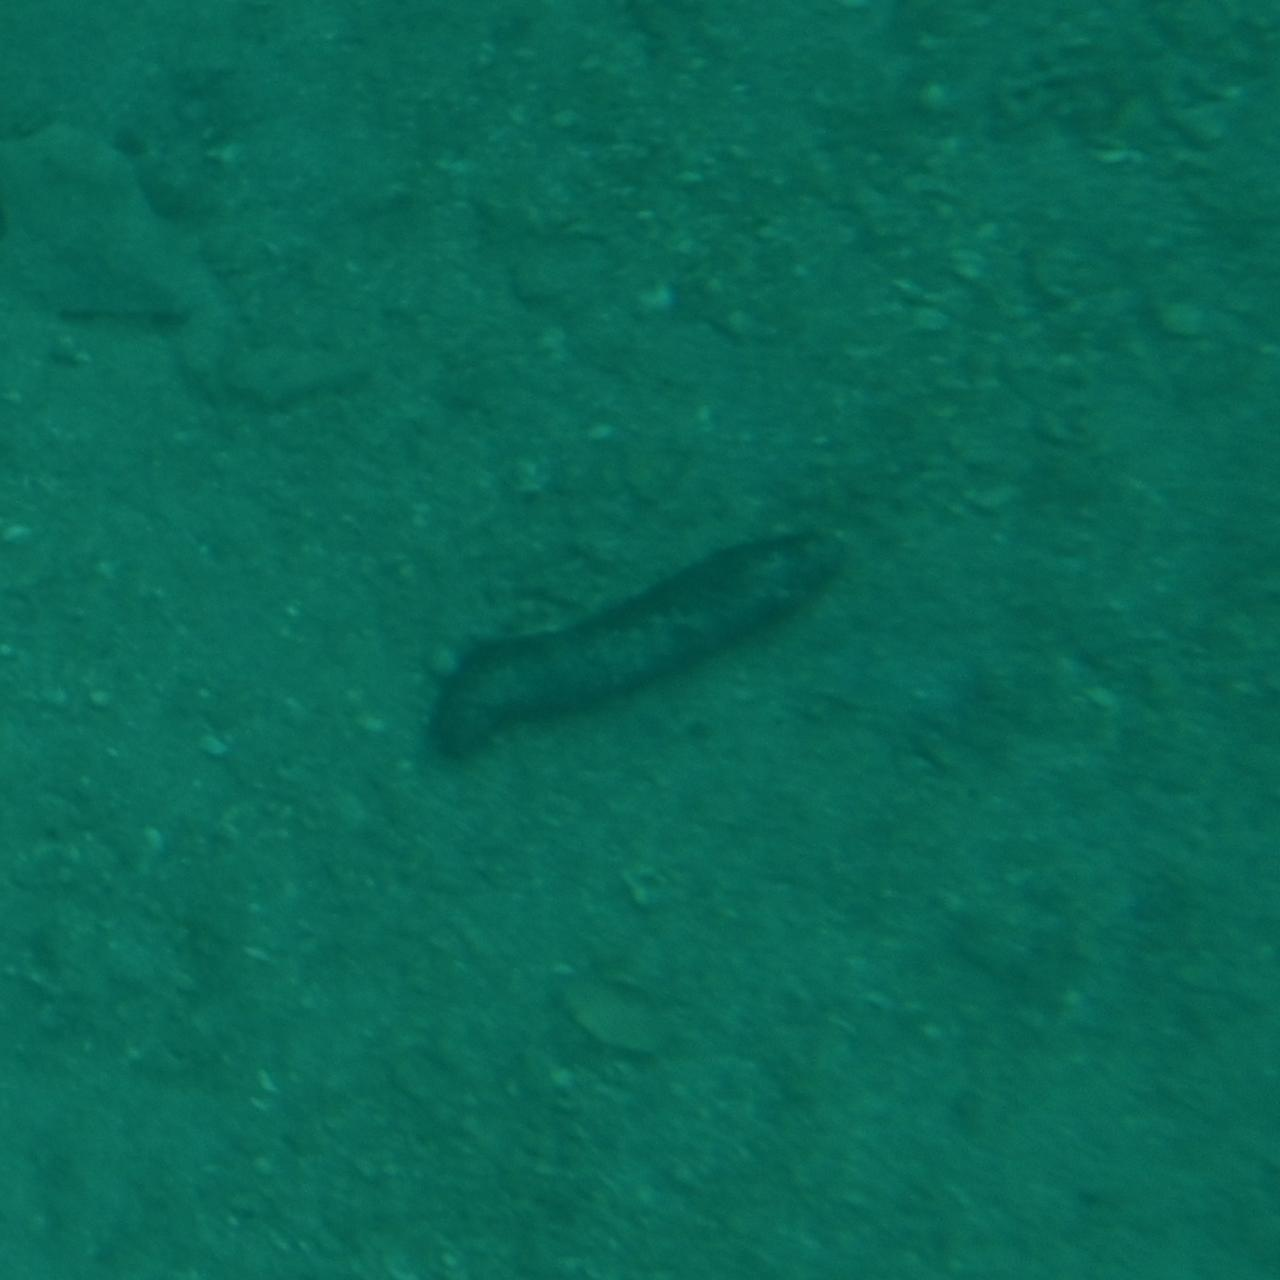Holothuria tubulosa: (426, 514, 854, 766)
